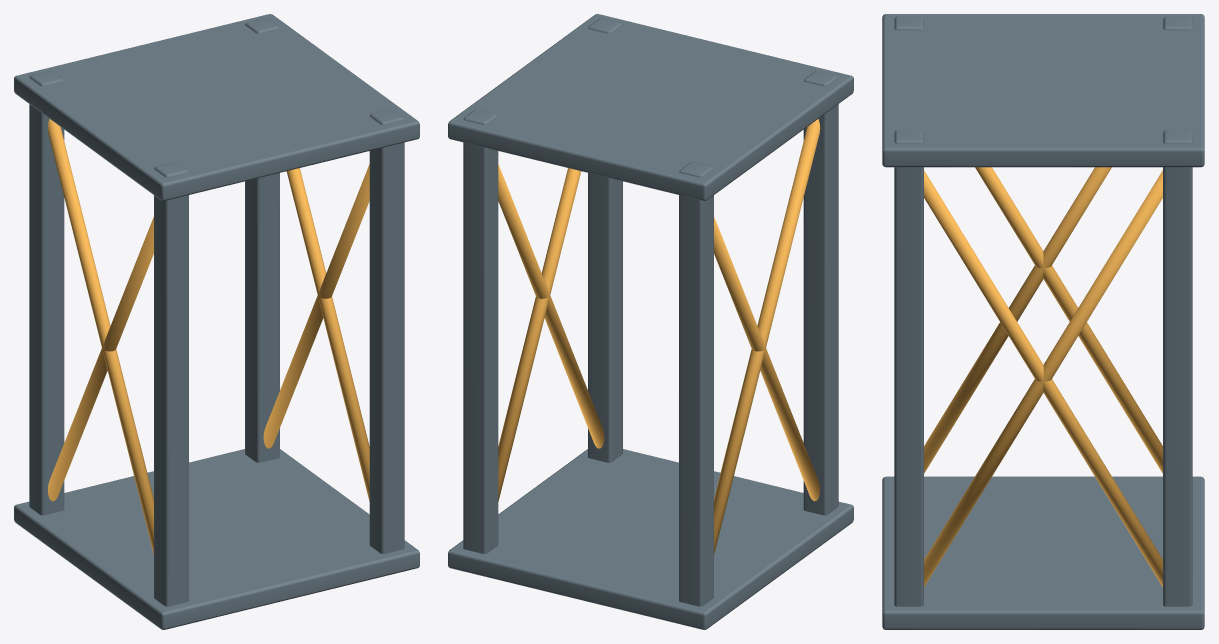
File: SM_FE_TowerBase.fbx
3 renders of one model, left to right at view 1: azimuth 30°, elevation 25°; view 2: azimuth 150°, elevation 25°; view 3: azimuth 270°, elevation 25°, orthographic. The views are drawn at different scales.
Visible parts, largest first — view 1: SM_FE_TowerBase; view 2: SM_FE_TowerBase; view 3: SM_FE_TowerBase.
Part boxes in pixels (bbox=[...]): SM_FE_TowerBase: bbox=[14, 14, 419, 629]; SM_FE_TowerBase: bbox=[448, 14, 853, 629]; SM_FE_TowerBase: bbox=[882, 14, 1204, 629].
Size of the model in its own units: 240 by 240 by 400.
